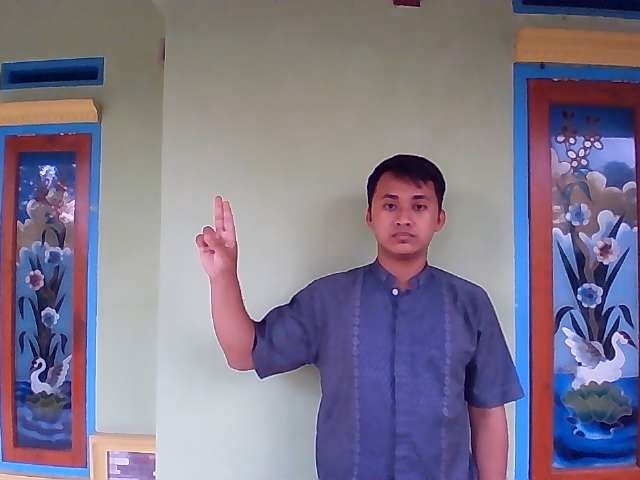U: (194, 193, 238, 272)
